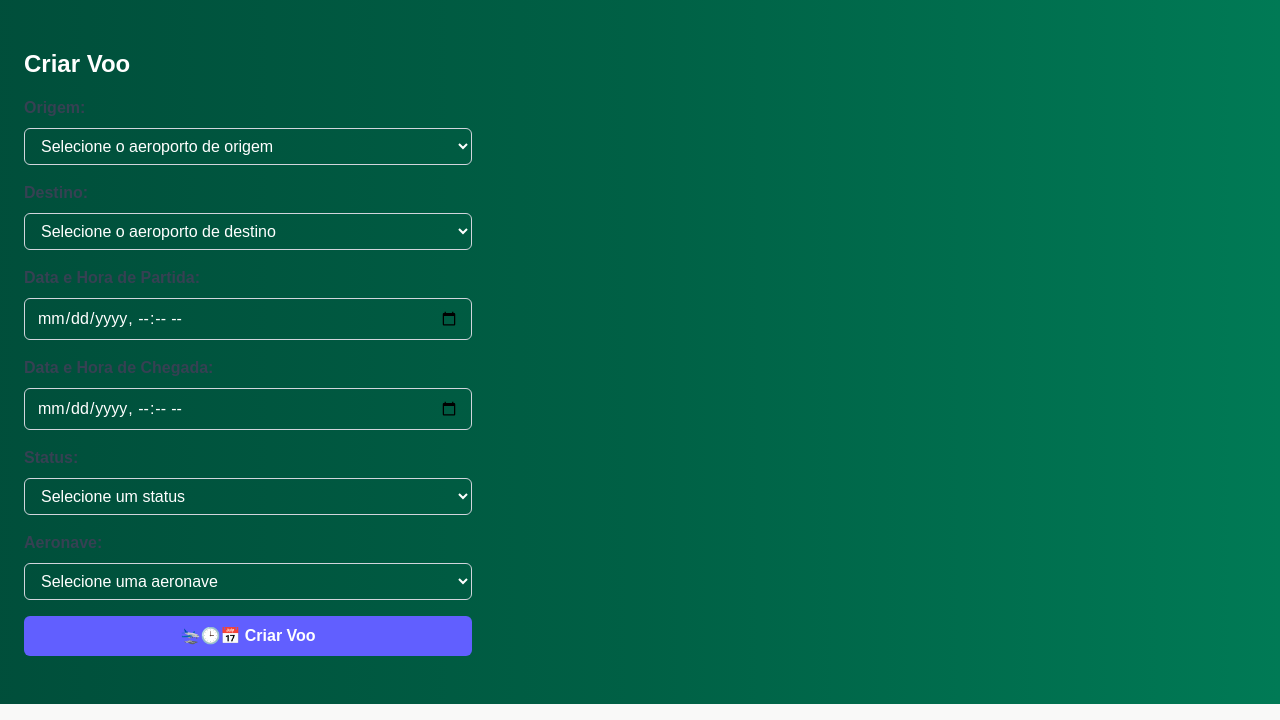
Componente CreateFlight › deve exibir mensagem de erro ao enviar formulário invalido
Select "Aeroporto A" in the dropdown with test id "origem" at (248, 146), box [24, 128, 472, 165]
Select "Aeroporto B" in the dropdown with test id "destino" at (248, 232), box [24, 213, 472, 250]
Type "2023-01-01T00:00:00" into the field with test id "dataHoraPartida" at (248, 319), box [24, 298, 472, 340]
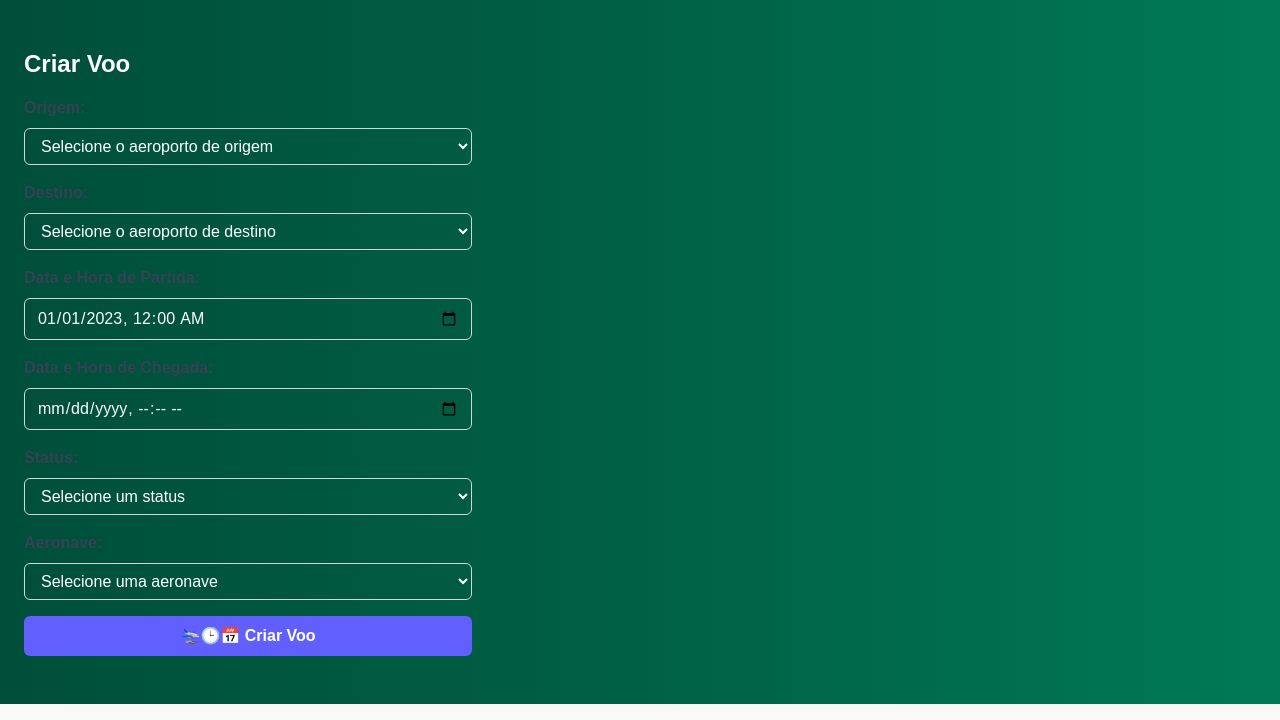
Type "2023-01-01T00:00:00" into the field with test id "dataHoraChegada" at (248, 409), box [24, 388, 472, 430]
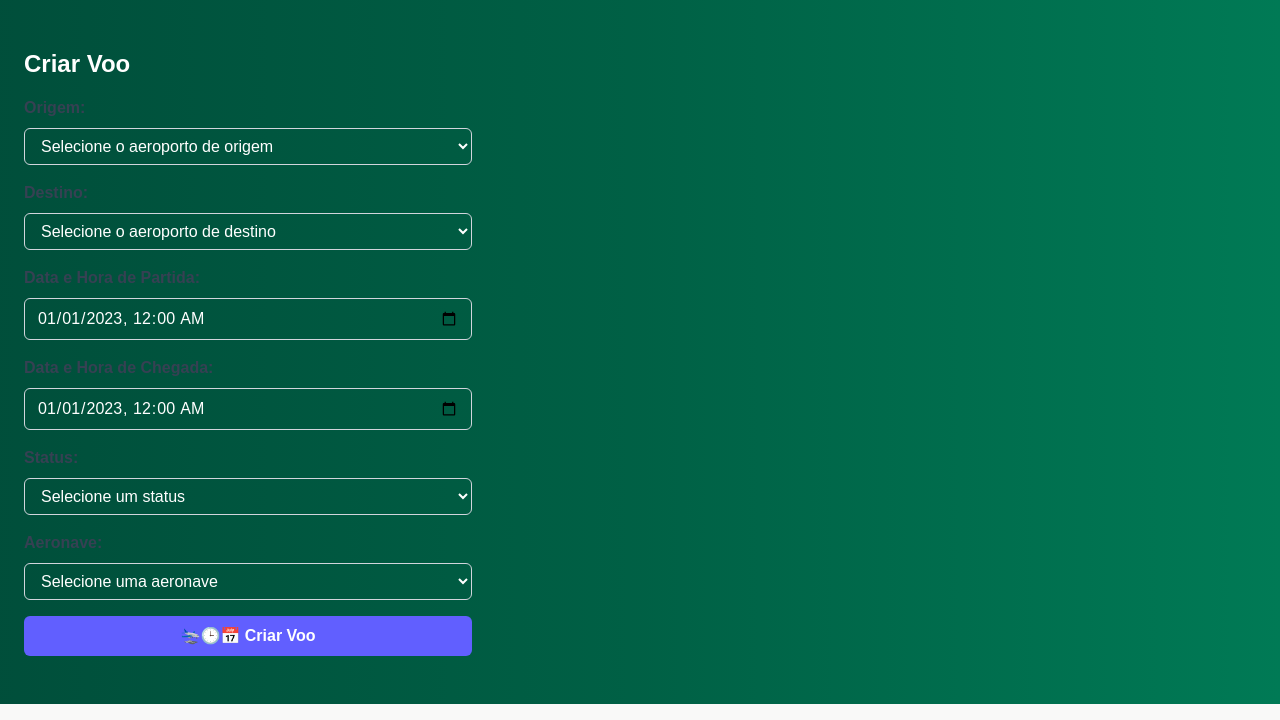
Select "Em Voo" in the dropdown with test id "status" at (248, 496), box [24, 478, 472, 515]
Select "Boeing 737" in the dropdown with test id "plane" at (248, 582), box [24, 563, 472, 600]
Click the button with test id "create-flight" at (248, 636), box [24, 616, 472, 656]
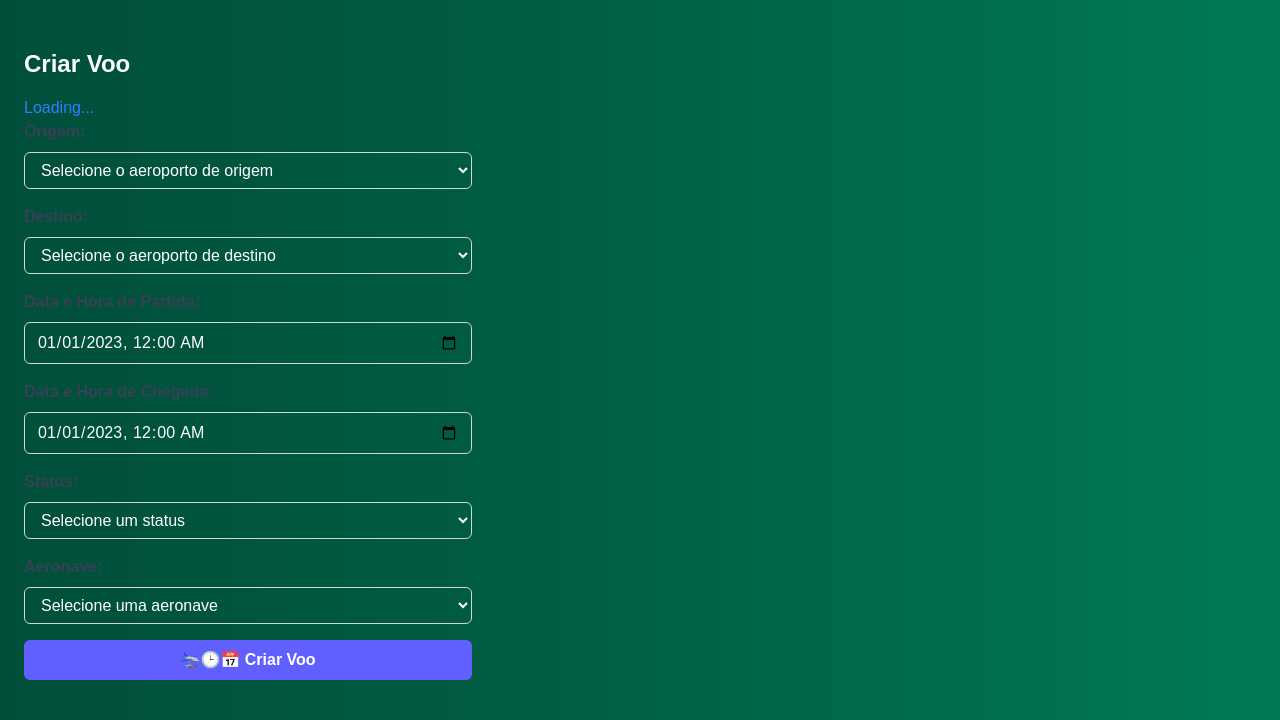
Check: the text "Loading..." is shown, box [24, 99, 94, 116]
